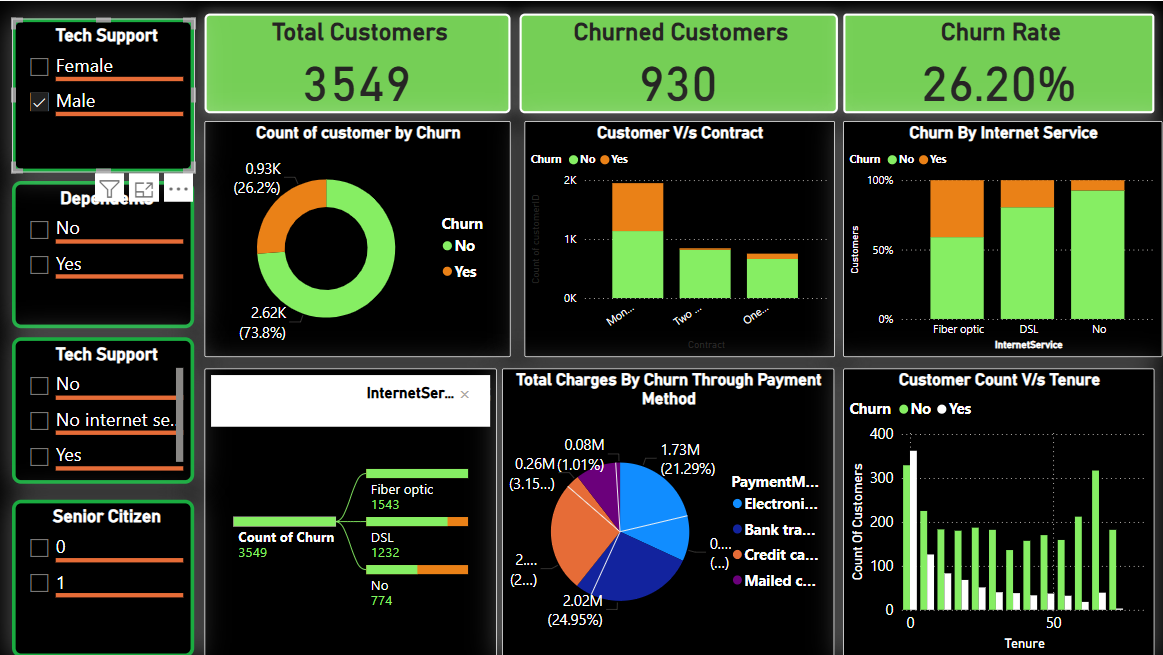

What the dashboard file says about the page in this screenshot:
{"tool":"powerbi","page":{"name":"Page 2","canvas":[1280,720],"ordinal":1},"visuals":[{"type":"card","title":"Total Customers","fields":{"Values":["Count(cleaned_teco_churn.customerID)"]},"box":[228.1,18.5,336.4,96.9],"z":0},{"type":"card","title":"Churned Customers","fields":{"Values":["CountNonNull(cleaned_teco_churn.Churn)"]},"box":[578.7,18.5,340.7,96.9],"z":1000},{"type":"card","title":"Churn Rate","fields":{"Values":["cleaned_teco_churn.Churn Rate"]},"box":[929,19.2,341.7,96.1],"z":2000},{"type":"donutChart","title":"Count of customer by Churn","fields":{"Y":["CountNonNull(cleaned_teco_churn.customerID)"],"Category":["cleaned_teco_churn.Churn"]},"box":[228.1,131.1,336.4,259.4],"z":3000},{"type":"columnChart","title":"Customer V/s  Contract","fields":{"Category":["cleaned_teco_churn.Contract"],"Series":["cleaned_teco_churn.Churn"],"Y":["CountNonNull(cleaned_teco_churn.customerID)"]},"box":[578.7,131.1,340.7,259.4],"z":4000},{"type":"decompositionTreeVisual","title":"Count of customer by Churn","fields":{"Analyze":["CountNonNull(cleaned_teco_churn.Churn)"],"ExplainBy":["cleaned_teco_churn.InternetService","cleaned_teco_churn.Contract","cleaned_teco_churn.PaymentMethod"]},"box":[228.1,403.4,320.7,316.4],"z":5000},{"type":"hundredPercentStackedColumnChart","title":"Churn By Internet Service","fields":{"Category":["cleaned_teco_churn.InternetService"],"Series":["cleaned_teco_churn.Churn"],"Y":["CountNonNull(cleaned_teco_churn.customerID)"]},"box":[929.4,131.1,350.6,259.4],"z":6000},{"type":"pieChart","title":"Total Charges By Churn Through Payment Method","fields":{"Y":["Sum(cleaned_teco_churn.TotalCharges)"],"Category":["cleaned_teco_churn.PaymentMethod"],"Series":["cleaned_teco_churn.Churn"]},"box":[554.5,403.4,364.9,316.4],"z":7000},{"type":"clusteredColumnChart","title":"Customer Count V/s Tenure","fields":{"Category":["cleaned_teco_churn.tenure (bins)"],"Series":["cleaned_teco_churn.Churn"],"Y":["CountNonNull(cleaned_teco_churn.customerID)"]},"box":[929,403.4,341.7,317],"z":8000},{"type":"slicer","title":"Tech Support","fields":{"Values":["cleaned_teco_churn.gender"]},"box":[16.5,19.2,200.3,168.8],"z":8001},{"type":"slicer","title":"Dependents","fields":{"Values":["cleaned_teco_churn.Dependents"]},"box":[16.5,197.6,200.3,161.9],"z":8002},{"type":"slicer","title":"Tech Support","fields":{"Values":["cleaned_teco_churn.TechSupport"]},"box":[16.5,369.1,200.3,160.5],"z":8003},{"type":"slicer","title":"Senior Citizen","fields":{"Values":["cleaned_teco_churn.SeniorCitizen"]},"box":[16.5,547.5,200.3,172.9],"z":8004}]}

Visuals, with their boxes in screenshot pixels (x1, y1, x2, y2), scaled from the page's 1280x720 canvas onto the 1163x655 screenshot:
"Total Customers" card: [left=207, top=17, right=513, bottom=105]
"Churned Customers" card: [left=526, top=17, right=835, bottom=105]
"Churn Rate" card: [left=844, top=17, right=1155, bottom=105]
"Count of customer by Churn" donutChart: [left=207, top=119, right=513, bottom=355]
"Customer V/s  Contract" columnChart: [left=526, top=119, right=835, bottom=355]
"Count of customer by Churn" decompositionTreeVisual: [left=207, top=367, right=499, bottom=654]
"Churn By Internet Service" hundredPercentStackedColumnChart: [left=844, top=119, right=1162, bottom=355]
"Total Charges By Churn Through Payment Method" pieChart: [left=504, top=367, right=835, bottom=654]
"Customer Count V/s Tenure" clusteredColumnChart: [left=844, top=367, right=1155, bottom=654]
"Tech Support" slicer: [left=15, top=17, right=197, bottom=171]
"Dependents" slicer: [left=15, top=180, right=197, bottom=327]
"Tech Support" slicer: [left=15, top=336, right=197, bottom=482]
"Senior Citizen" slicer: [left=15, top=498, right=197, bottom=654]
